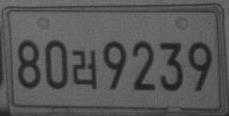0: (44, 39, 68, 89)
2: (131, 40, 155, 91)
3: (160, 41, 183, 92)
8: (17, 39, 41, 89)
9: (187, 40, 212, 91), (102, 40, 126, 90)
러: (72, 50, 97, 89)
